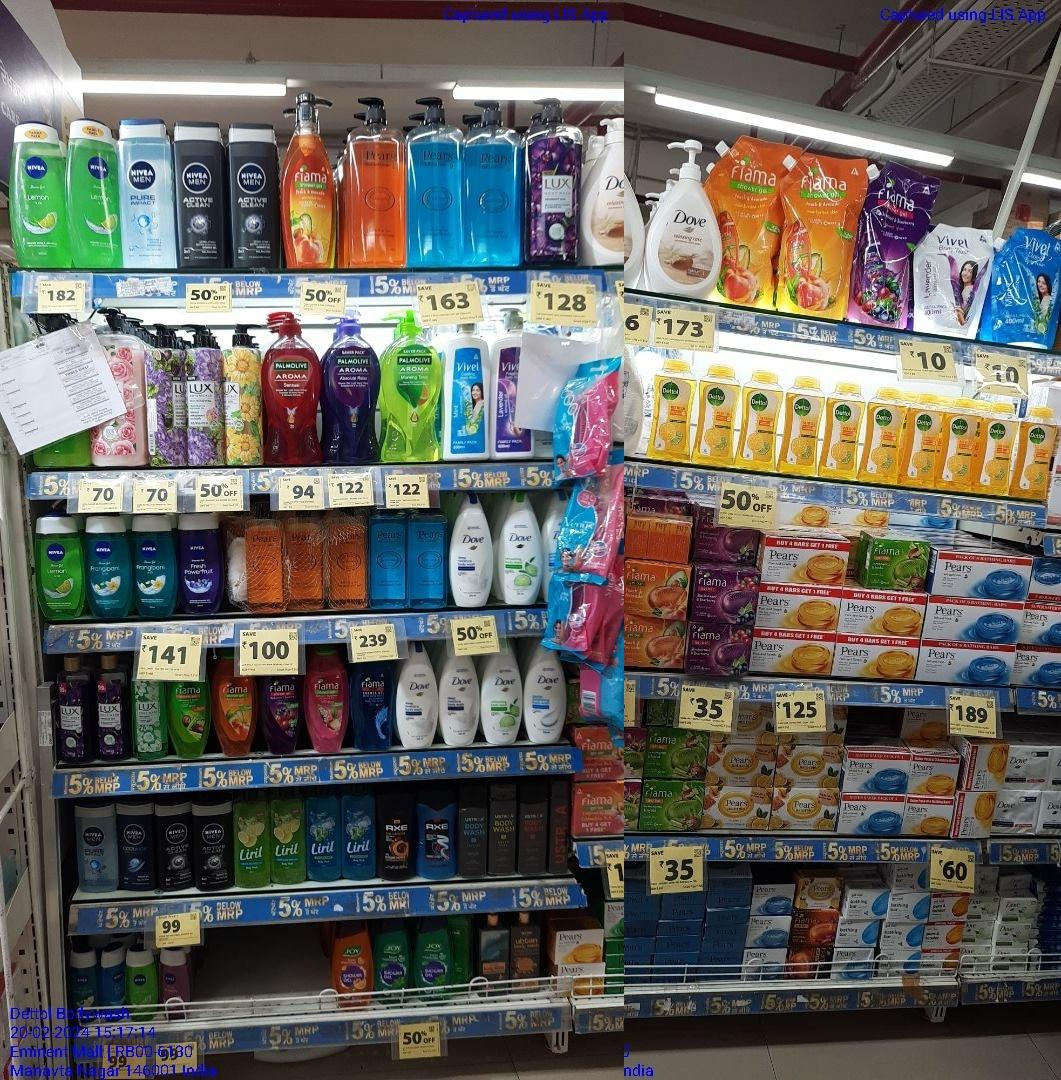Dettol_Bodywash_Refresh: (648, 358, 697, 461), (738, 370, 778, 472), (781, 375, 821, 477), (823, 380, 863, 482), (865, 382, 904, 484), (699, 362, 736, 467), (1017, 407, 1056, 500), (905, 391, 942, 489), (945, 396, 979, 491), (982, 401, 1014, 497)
Dove_Deep_Moisture_Body_Wash_250ML: (451, 493, 492, 608), (398, 640, 439, 750), (440, 654, 480, 748)
Dove_Gentle_Exfoliating_Body_Wash_250ML: (527, 649, 567, 745)
Dove_Refreshing_Body_Wash_250ML: (498, 491, 543, 606), (482, 655, 524, 745)
Fiama_Shower_Gel_Lemongrass_and_Jojoba_250ML: (170, 680, 212, 763)
Fiama_Shower_Gel_Patchouli_and_Macadamia_250ML: (305, 651, 351, 753)
Fiama_Shower_Gel_Peach_and_Avocado_250ML: (216, 676, 255, 755)
Joy_Shower_Gel_Mandarin_and_Lemongrass_250ML: (332, 922, 375, 1010)
Joy_Shower_Gel_Mint_and_Eucalyptus_250ML: (415, 915, 452, 1010), (378, 921, 408, 1006)
Liril_Cooling_Mint_Body_Wash_250ML: (342, 785, 376, 880), (309, 787, 340, 882)
Liril_Lime_and_Tea_Tree_Oil_Body_Wash_250ML: (236, 793, 272, 889), (274, 789, 305, 885)
Lux_Black_Orchid_Scent_and_Juniper_Oil_Body_Wash_245ML: (55, 652, 94, 767), (96, 654, 132, 764)
Lux_Body_Wash_Skin_Detox_Freesia_Scent_and_Alove_Vera_245ML: (135, 680, 167, 762)
Nivea_Shower_Gel_Frangipani_and_Oil_250ML: (88, 513, 134, 621), (137, 516, 179, 618), (68, 947, 99, 1024)
Nivea_Shower_Gel_Fresh_Powerfruit_250ML: (181, 512, 224, 616)
Nivea_Shower_Gel_Lemon_and_Oil_250ML: (9, 118, 68, 270), (71, 119, 116, 269), (37, 514, 86, 620), (126, 949, 158, 1024)
Nivea_Shower_Gel_Waterlily_and_Oil_250ML: (159, 948, 190, 1021)
Pears_Pure_Glycerin_and_Mint_Extracts_Body_Wash_250ML: (411, 507, 449, 611), (369, 508, 407, 611)
